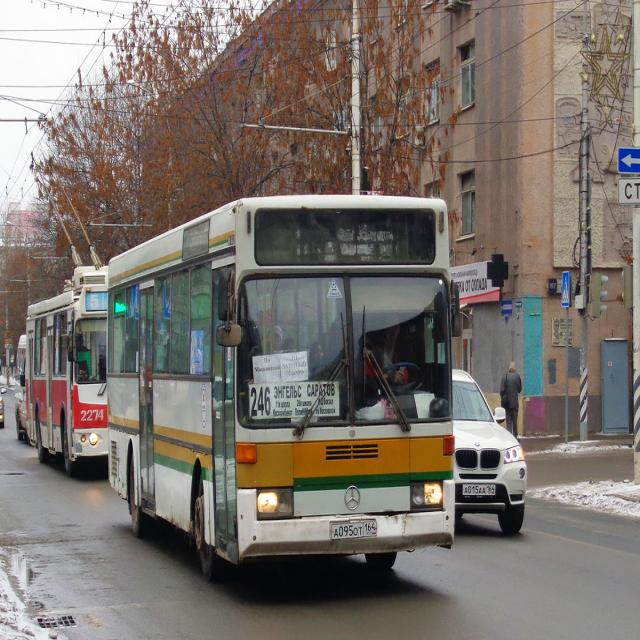number-of-bus: (249, 387, 276, 423)
